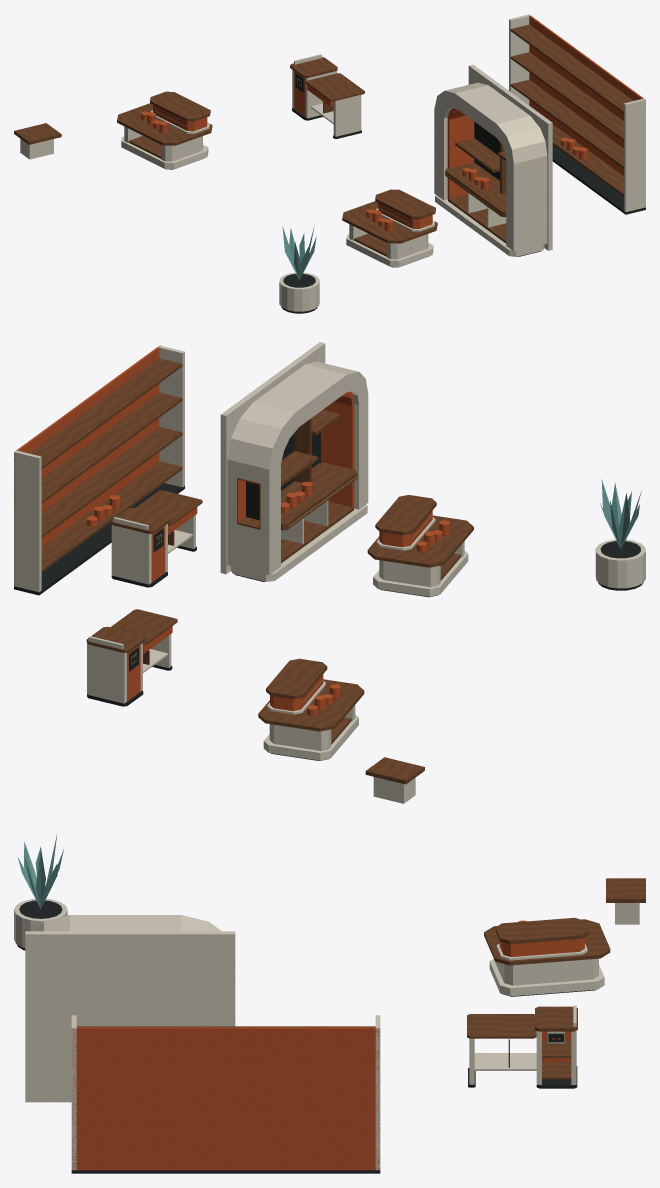
Rendered from SHOP_D09_S100_F288__fitout.glb.
3 views of the same model, one above another, from view 1: azimuth 30°, elevation 25°; view 2: azimuth 150°, elevation 25°; view 3: azimuth 270°, elevation 25° (orthographic). The views are drawn at different scales.
Parts seen in each view (by area): view 1: SHOP_D09_S100_F288__fitout__ivory_enamel, SHOP_D09_S100_F288__fitout__warm_walnut, SHOP_D09_S100_F288__fitout__retail_terracotta_enamel, SHOP_D09_S100_F288__fitout__dark_rubber, SHOP_D09_S100_F288__fitout__quiet_teal; view 2: SHOP_D09_S100_F288__fitout__ivory_enamel, SHOP_D09_S100_F288__fitout__warm_walnut, SHOP_D09_S100_F288__fitout__retail_terracotta_enamel, SHOP_D09_S100_F288__fitout__dark_rubber, SHOP_D09_S100_F288__fitout__quiet_teal; view 3: SHOP_D09_S100_F288__fitout__retail_terracotta_enamel, SHOP_D09_S100_F288__fitout__ivory_enamel, SHOP_D09_S100_F288__fitout__warm_walnut, SHOP_D09_S100_F288__fitout__dark_rubber, SHOP_D09_S100_F288__fitout__quiet_teal.
Part boxes in pixels (x1=…): SHOP_D09_S100_F288__fitout__ivory_enamel: x1=20, y1=14, x2=645, y2=311; SHOP_D09_S100_F288__fitout__warm_walnut: x1=14, y1=24, x2=633, y2=256; SHOP_D09_S100_F288__fitout__retail_terracotta_enamel: x1=141, y1=14, x2=645, y2=231; SHOP_D09_S100_F288__fitout__dark_rubber: x1=165, y1=73, x2=645, y2=313; SHOP_D09_S100_F288__fitout__quiet_teal: x1=282, y1=225, x2=316, y2=279; SHOP_D09_S100_F288__fitout__ivory_enamel: x1=14, y1=342, x2=645, y2=803; SHOP_D09_S100_F288__fitout__warm_walnut: x1=29, y1=358, x2=473, y2=784; SHOP_D09_S100_F288__fitout__retail_terracotta_enamel: x1=14, y1=345, x2=450, y2=715; SHOP_D09_S100_F288__fitout__dark_rubber: x1=14, y1=432, x2=643, y2=760; SHOP_D09_S100_F288__fitout__quiet_teal: x1=600, y1=479, x2=641, y2=548; SHOP_D09_S100_F288__fitout__retail_terracotta_enamel: x1=72, y1=920, x2=584, y2=1170; SHOP_D09_S100_F288__fitout__ivory_enamel: x1=14, y1=899, x2=639, y2=1170; SHOP_D09_S100_F288__fitout__warm_walnut: x1=76, y1=878, x2=645, y2=1079; SHOP_D09_S100_F288__fitout__dark_rubber: x1=17, y1=900, x2=595, y2=1173; SHOP_D09_S100_F288__fitout__quiet_teal: x1=17, y1=834, x2=63, y2=908.
Bounding box in the file's own units: 10.25 × 3 × 10.24.
6 materials, 5 textured.
